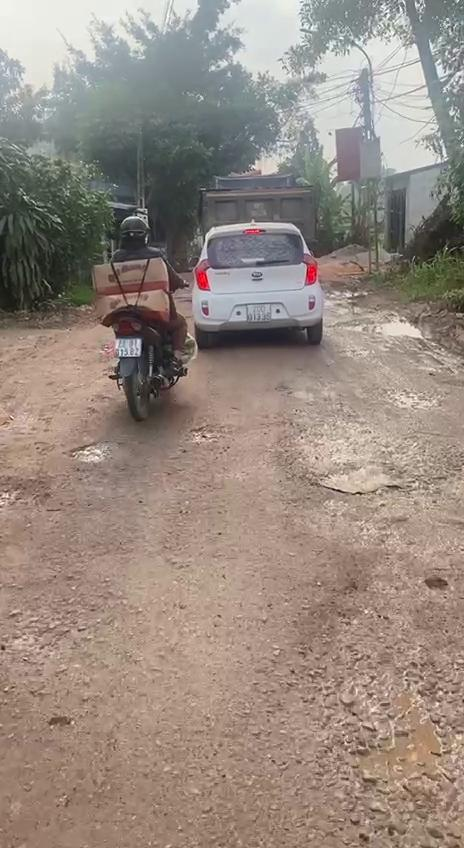pothole: (285, 572, 464, 848), (274, 430, 424, 498), (0, 474, 61, 513), (68, 436, 124, 464), (185, 420, 219, 450)
